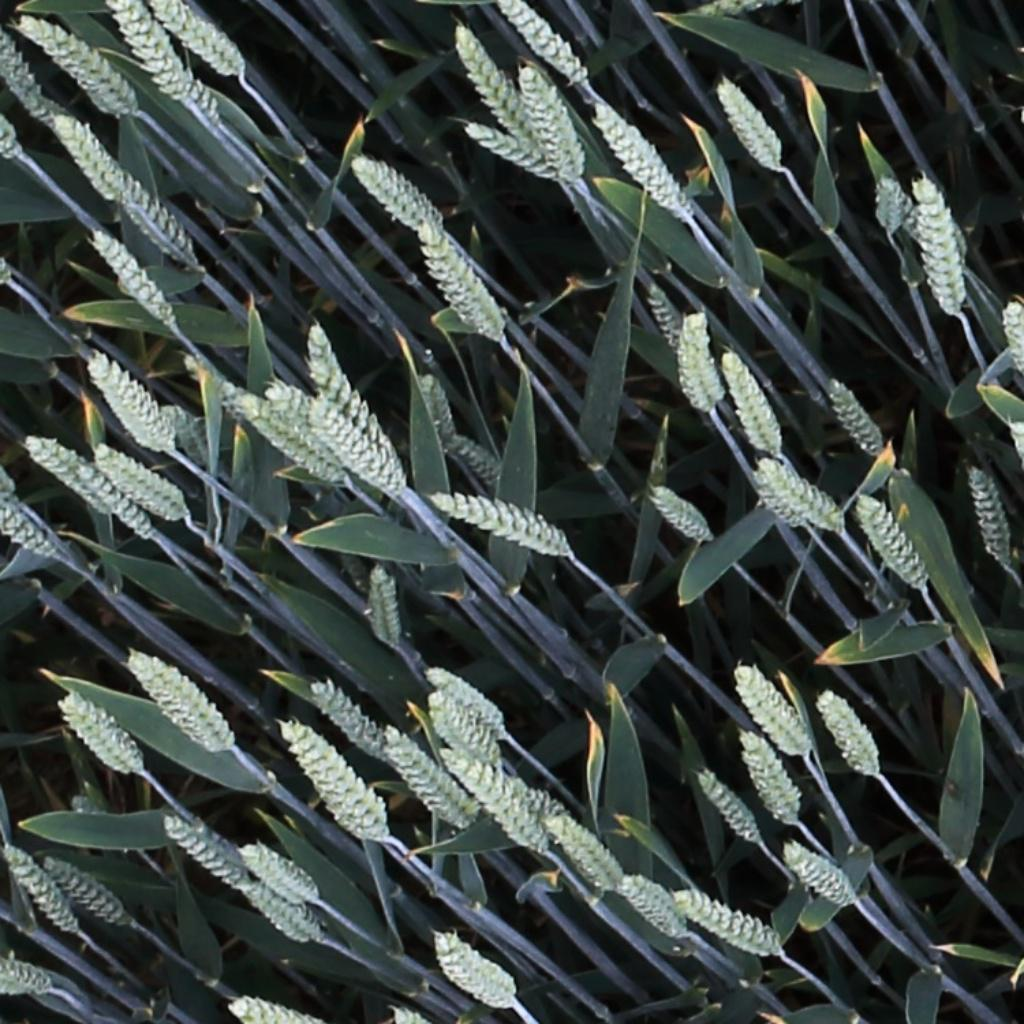0-0: (301, 323, 398, 479), (277, 719, 387, 846), (592, 100, 698, 227), (128, 642, 239, 762), (446, 17, 540, 158), (28, 439, 151, 537), (409, 217, 503, 342), (442, 750, 551, 856), (19, 13, 137, 110), (303, 393, 400, 494), (234, 393, 341, 484), (86, 222, 176, 329), (95, 168, 193, 262), (103, 4, 193, 103), (83, 349, 170, 450), (428, 494, 570, 555), (382, 730, 469, 827), (304, 679, 393, 771), (517, 58, 585, 178), (265, 374, 350, 470), (913, 174, 970, 317), (88, 446, 192, 524), (496, 0, 588, 87), (853, 491, 929, 595), (1, 842, 81, 940), (731, 664, 811, 759), (716, 345, 783, 458), (159, 815, 253, 894), (150, 0, 245, 77), (55, 696, 142, 778), (431, 931, 519, 1012), (711, 75, 783, 172), (51, 110, 125, 203), (36, 848, 129, 921), (813, 688, 883, 783), (673, 891, 778, 954), (424, 688, 502, 772), (761, 460, 847, 536), (737, 727, 800, 830), (350, 154, 435, 229), (821, 371, 887, 461), (544, 817, 621, 894), (0, 21, 55, 126), (690, 768, 761, 849), (963, 460, 1013, 570), (424, 667, 505, 733), (464, 121, 558, 177), (241, 882, 322, 942), (677, 311, 722, 418), (615, 876, 686, 942), (237, 846, 314, 906), (779, 845, 853, 906), (754, 469, 808, 536), (413, 367, 457, 449), (641, 277, 685, 356), (649, 486, 711, 542), (443, 430, 499, 490), (1, 505, 58, 562), (365, 562, 398, 653), (875, 169, 911, 237), (1000, 297, 1024, 398), (225, 996, 311, 1024), (178, 76, 228, 121), (0, 956, 48, 1000)
